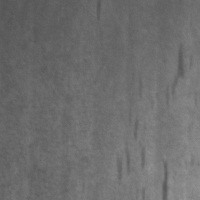inclusion: (114, 113, 150, 199), (159, 39, 198, 112), (125, 97, 144, 143), (156, 157, 176, 199), (93, 1, 106, 25)
